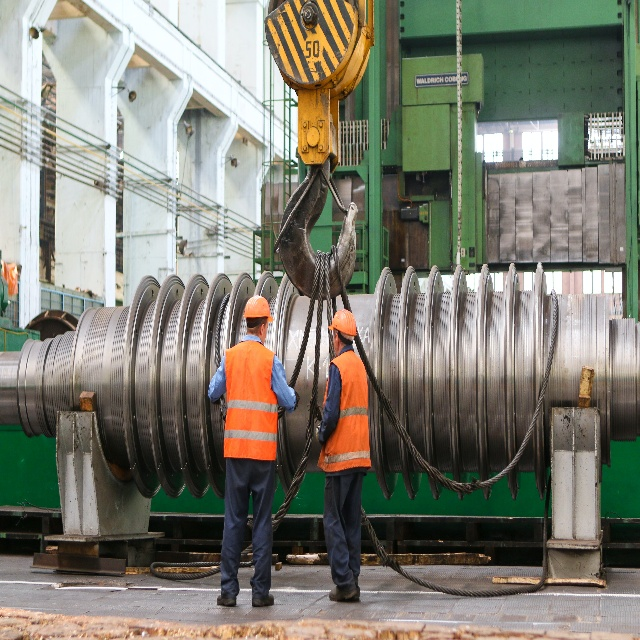Guantes: (315, 423, 323, 446)
